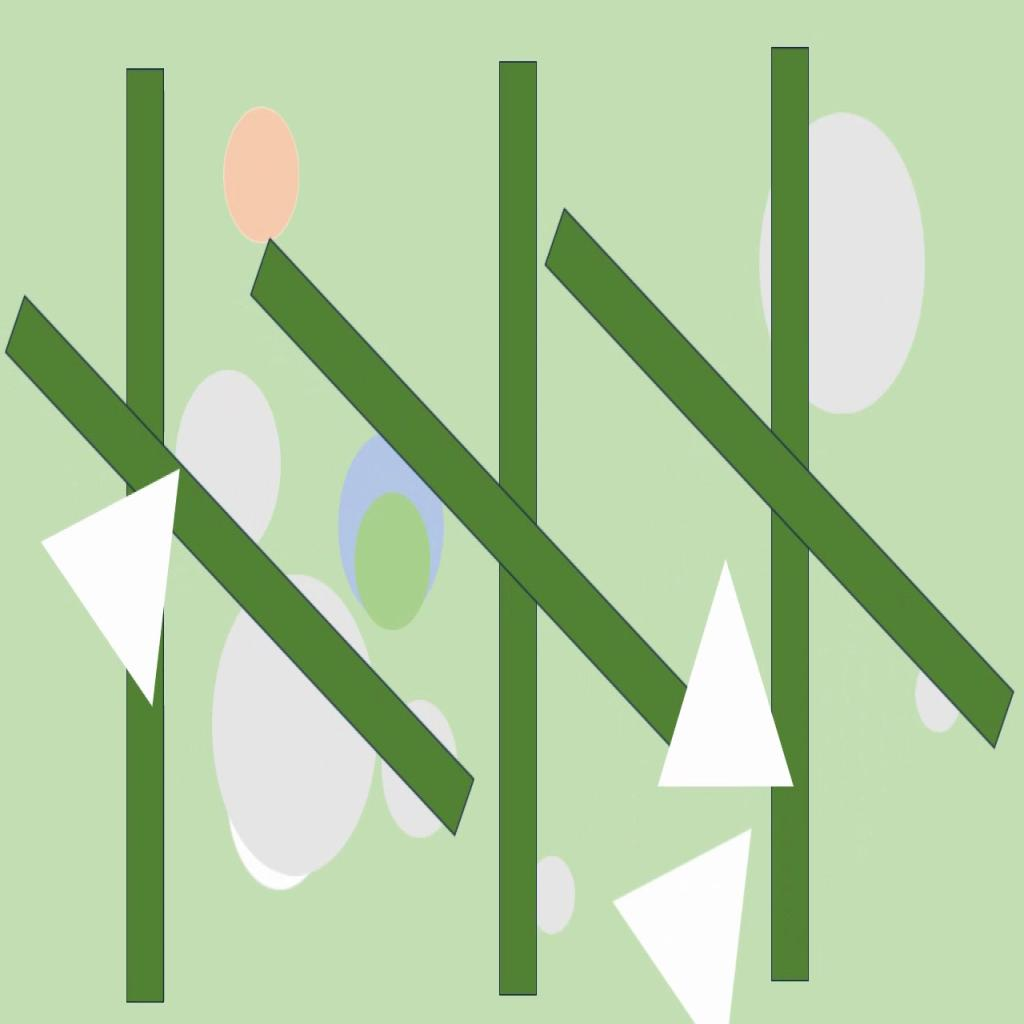Circle: (758, 112, 928, 417), (212, 571, 375, 872), (172, 364, 283, 562), (337, 430, 446, 620), (229, 762, 317, 892), (380, 698, 461, 838), (222, 105, 301, 245), (360, 496, 430, 631), (916, 645, 967, 729), (528, 855, 576, 935)
